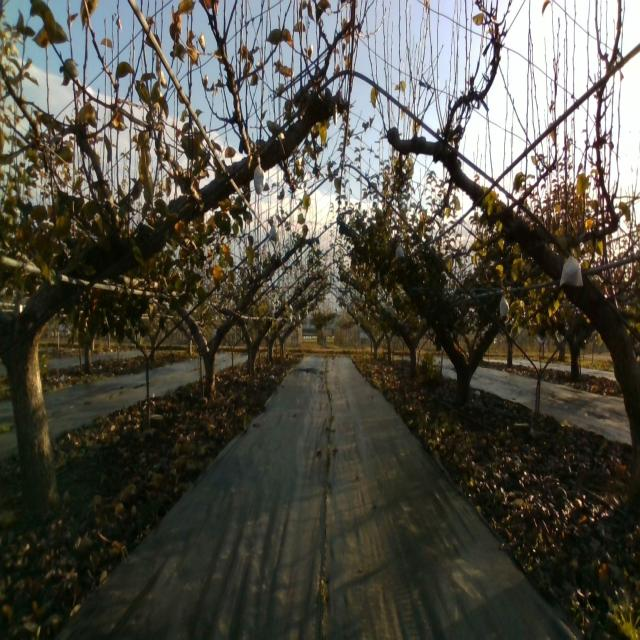pearbags: (560, 249, 584, 289), (253, 155, 266, 195), (499, 294, 510, 318), (268, 222, 281, 242)
